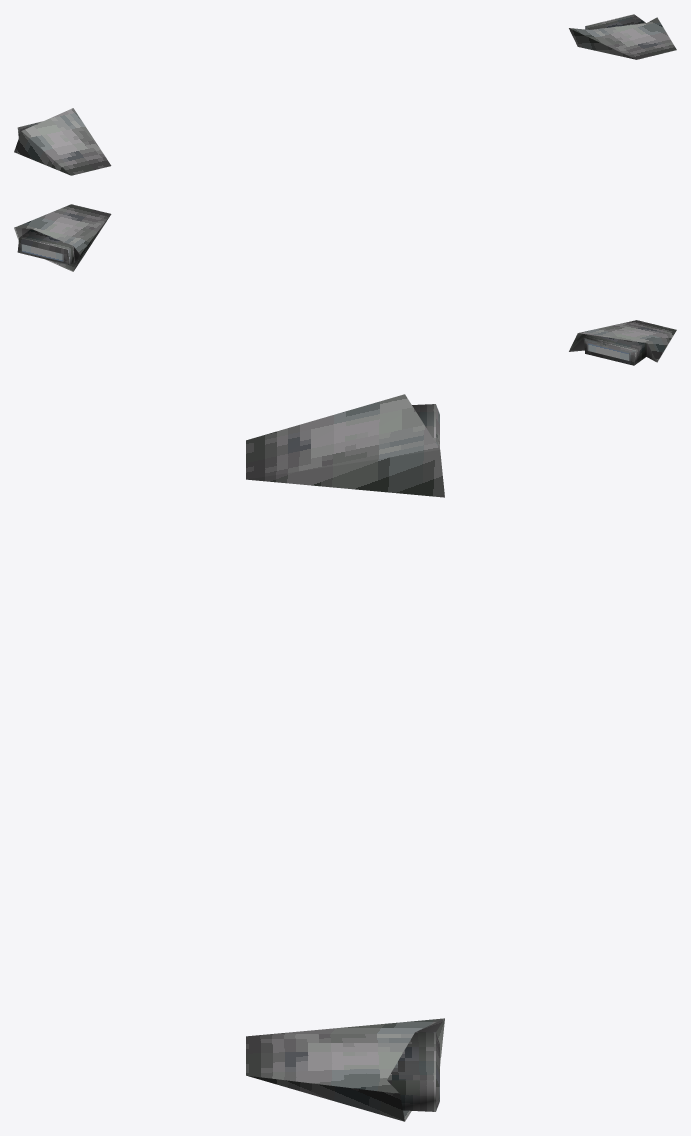
File: xwing_booster_pos_s01_l2.fbx
The picture shows the model from 3 angles, top to bottom: view 1: azimuth 30°, elevation 25°; view 2: azimuth 150°, elevation 25°; view 3: azimuth 270°, elevation 25°; orthographic projection. The views are drawn at different scales.
Visible parts, largest first — view 1: mesh_node; view 2: mesh_node; view 3: mesh_node.
Boxes of the visible parts, x1,y1,x2,y2 form: mesh_node: [14, 14, 676, 175]; mesh_node: [14, 204, 676, 365]; mesh_node: [246, 394, 444, 1121].
Bounding box in the file's own units: 8.52 × 0.7857 × 1.14.
1 material, 1 textured.
